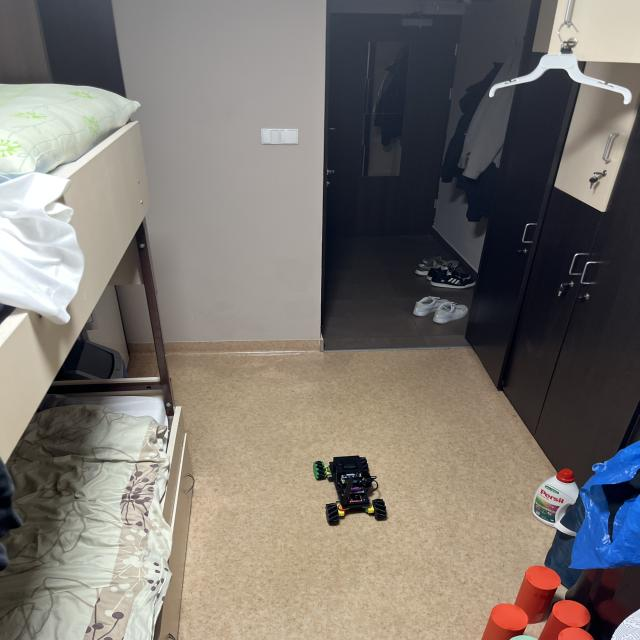robot: (313, 456, 387, 526)
